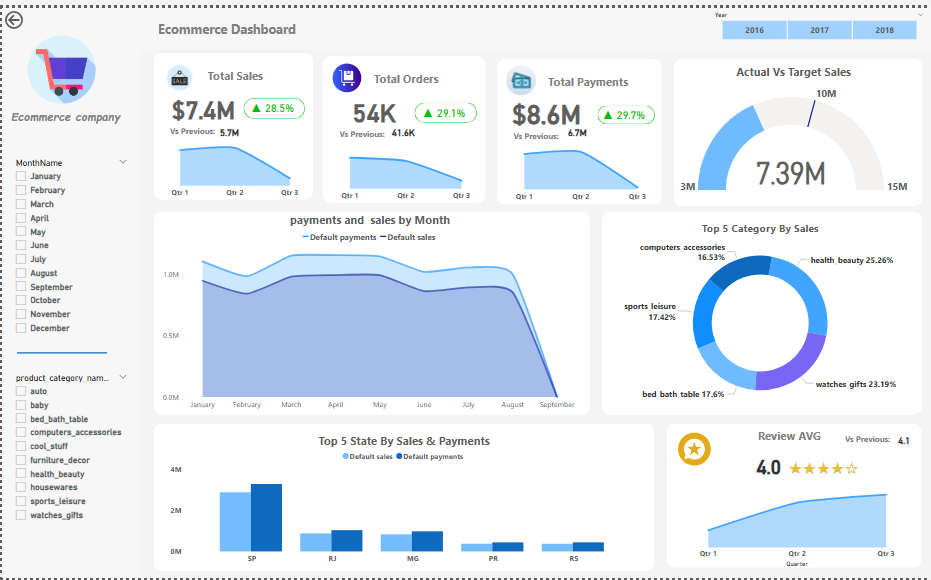

What the dashboard file says about the page in this screenshot:
{"tool":"powerbi","page":{"name":"Page 1","canvas":[1550,950],"ordinal":0},"visuals":[{"type":"shape","box":[0,0,230.9,950],"z":0},{"type":"shape","box":[253.2,75.8,265.8,244.9],"z":0,"group":"g6"},{"type":"shape","box":[533.8,79.4,270.2,244.9],"z":0,"group":"g7"},{"type":"shape","box":[824.7,84.3,274.3,242.9],"z":0,"group":"g8"},{"type":"shape","box":[1106.6,691.8,425.3,240.4],"z":0,"group":"g9"},{"type":"shape","box":[229.4,0,1320.6,70.6],"z":1000},{"type":"card","fields":{"Values":["FACTOrders.Default sales"]},"box":[255.8,125.9,161.6,82.8],"z":1000,"group":"g6"},{"type":"card","fields":{"Values":["FACTOrders.Default orders"]},"box":[536.4,129.5,164.3,82.8],"z":1000,"group":"g7"},{"type":"card","fields":{"Values":["FACTOrders.Default payments"]},"box":[804.3,132.7,204.1,78.3],"z":1000,"group":"g8"},{"type":"card","fields":{"Values":["FACTOrders.Default Review"]},"box":[1208,720.9,135.6,81.2],"z":1000,"group":"g9"},{"type":"card","fields":{"Values":["FACTOrders.Growth Indicator"]},"box":[395,150,109.3,35.1],"z":2000,"group":"g6"},{"type":"card","fields":{"Values":["FACTOrders.Growth Indicator orders"]},"box":[679.1,156.9,111.2,35.1],"z":2000,"group":"g7"},{"type":"shape","box":[253.2,340.3,727.4,337.1],"z":2000},{"type":"card","fields":{"Values":["FACTOrders.Dynamic Stars"]},"box":[1272.8,748.6,192.9,32.8],"z":2000,"group":"g9"},{"type":"group","id":"g1","title":"Group 2","box":[253.2,75.8,266.1,250],"z":3000},{"type":"stackedAreaChart","fields":{"Y":["FACTOrders.Default sales"],"Category":["DIM_DATE.FullDate.Variation.Date Hierarchy.Quarter"]},"box":[255.8,213.4,265.8,112.4],"z":3000,"group":"g6"},{"type":"stackedAreaChart","fields":{"Y":["FACTOrders.Default payments"],"Category":["DIM_DATE.FullDate.Variation.Date Hierarchy.Quarter"]},"box":[827.5,216.6,273.9,113.8],"z":3000,"group":"g8"},{"type":"stackedAreaChart","fields":{"Y":["FACTOrders.Default orders"],"Category":["DIM_DATE.FullDate.Variation.Date Hierarchy.Quarter"]},"box":[536.4,217,270.2,112.4],"z":3000,"group":"g7"},{"type":"stackedAreaChart","fields":{"Y":["FACTOrders.Default Review"],"Category":["DIM_DATE.FullDate.Variation.Date Hierarchy.Quarter"]},"box":[1111.3,772.8,424.9,164.2],"z":3000,"group":"g9"},{"type":"group","id":"g2","title":"Group 2","box":[533.8,79.4,272.9,250],"z":4000},{"type":"card","fields":{"Values":["FACTOrders.Previous orders"]},"box":[639,191.8,57.7,33.1],"z":4000,"group":"g7"},{"type":"card","fields":{"Values":["FACTOrders.Previous Sales"]},"box":[351.3,193.9,57.4,32.2],"z":4000,"group":"g6"},{"type":"card","fields":{"Values":["FACTOrders.Previous Review"]},"box":[1456.6,703.7,91.9,32.8],"z":4000,"group":"g9"},{"type":"group","id":"g3","title":"Group 2","box":[804.3,84.3,297.1,246.1],"z":5000,"group":"g5"},{"type":"textbox","box":[275.4,191.4,108.2,29.6],"z":5000,"group":"g6"},{"type":"textbox","box":[556.4,195,110,29.6],"z":5000,"group":"g7"},{"type":"textbox","box":[847.1,195.6,111.5,28.3],"z":5000,"group":"g8"},{"type":"group","id":"g4","title":"Group 2","box":[1106.6,691.8,442.6,244.3],"z":5000},{"type":"textbox","box":[1399.4,701.9,111.5,36.3],"z":5000,"group":"g9"},{"type":"image","box":[255.8,90.4,81.5,52],"z":6000,"group":"g6"},{"type":"image","box":[1119.1,702.9,67.6,64.7],"z":6000},{"type":"textbox","box":[337.3,96.3,128.2,39],"z":7000,"group":"g6"},{"type":"textbox","box":[613.2,99.2,145.3,36.7],"z":7000,"group":"g7"},{"type":"textbox","box":[904.8,104.2,176.1,37.4],"z":7000,"group":"g8"},{"type":"areaChart","title":"payments and  sales by Month","fields":{"Y":["FACTOrders.Default payments","FACTOrders.Default sales"],"Category":["DIM_DATE.MonthName"]},"box":[263.6,340,701.8,338.2],"z":7000},{"type":"textbox","box":[1254.1,695,159.7,44.9],"z":7000,"group":"g9"},{"type":"textbox","box":[10.3,163.2,210.3,38.2],"z":8000},{"type":"textbox","box":[255.9,16.2,269.1,54.4],"z":9000},{"type":"actionButton","box":[0,0,100,40],"z":10000},{"type":"slicer","fields":{"Values":["DIM_DATE.Year"]},"box":[1175,0,373.5,58.8],"z":11000},{"type":"shape","box":[1000,340.3,533.9,337.1],"z":12000},{"type":"donutChart","title":"Top 5 Category By Sales","fields":{"Category":["DMCategories.product_category_name_english"],"Y":["FACTOrders.Default sales"]},"box":[1006.5,351.6,511.3,325.8],"z":13000},{"type":"group","id":"g5","title":"Group 3","box":[804.3,84.3,297.1,246.1],"z":14000},{"type":"card","fields":{"Values":["FACTOrders.Growth Indicator Payments"]},"box":[980.9,163.5,105.6,28.2],"z":14000,"group":"g5"},{"type":"card","fields":{"Values":["FACTOrders.Previous Payments"]},"box":[932.8,186.9,52.5,41],"z":15000},{"type":"group","id":"g6","title":"Group 1","box":[253.2,75.8,268.4,250],"z":15002,"group":"g1"},{"type":"group","id":"g7","title":"Group 1","box":[533.8,79.4,272.9,250],"z":15002,"group":"g2"},{"type":"group","id":"g8","title":"Group 1","box":[804.3,84.3,297.1,246.1],"z":15002,"group":"g3"},{"type":"group","id":"g9","title":"Group 1","box":[1106.6,691.8,441.9,245.2],"z":15002,"group":"g4"},{"type":"shape","box":[403.2,150,102.5,35.1],"z":15502,"group":"g1"},{"type":"shape","box":[686,156.9,104.2,33.9],"z":15502,"group":"g7"},{"type":"shape","box":[992,160.9,95.8,31.3],"z":15502,"group":"g8"},{"type":"shape","box":[1119.4,83.9,414.5,245.2],"z":16000},{"type":"gauge","title":"Actual Vs Target Sales","fields":{"Y":["FACTOrders.Default sales"],"MaxValue":["FACTOrders.Max value"],"MinValue":["FACTOrders.Min value"],"TargetValue":["FACTOrders.Target"]},"box":[1119.4,91.9,398.4,225.8],"z":17000},{"type":"shape","box":[252.5,693.4,834.4,245.9],"z":18000},{"type":"clusteredColumnChart","title":"Top 5 State By Sales & Payments","fields":{"Y":["FACTOrders.Default sales","FACTOrders.Default payments"],"Category":["DMCustomers.customer_state"]},"box":[275.4,706.6,790.2,227.9],"z":19000},{"type":"image","box":[538.2,82.4,75,67.6],"z":20000},{"type":"image","box":[827.9,89.7,75,60.3],"z":21000},{"type":"image","box":[38.2,36.8,123.5,130.9],"z":22000},{"type":"slicer","fields":{"Values":["DIM_DATE.MonthName"]},"box":[10.3,245.6,210.3,305.9],"z":23000},{"type":"shape","box":[25,492.6,150,164.7],"z":24000},{"type":"slicer","fields":{"Values":["DMCategories.product_category_name_english"]},"box":[10.3,601.5,210.3,267.6],"z":25000}]}

Visuals, with their boxes in screenshot pixels (x1, y1, x2, y2), scaled from the page's 1550x950 canvas onto the 931x580 screenshot:
shape: x1=0 y1=0 x2=139 y2=579
shape: x1=152 y1=46 x2=312 y2=196
shape: x1=321 y1=48 x2=483 y2=198
shape: x1=495 y1=51 x2=660 y2=200
shape: x1=665 y1=422 x2=920 y2=569
shape: x1=138 y1=0 x2=930 y2=43
card - FACTOrders.Default sales: x1=154 y1=77 x2=251 y2=127
card - FACTOrders.Default orders: x1=322 y1=79 x2=421 y2=130
card - FACTOrders.Default payments: x1=483 y1=81 x2=606 y2=129
card - FACTOrders.Default Review: x1=726 y1=440 x2=807 y2=490
card - FACTOrders.Growth Indicator: x1=237 y1=92 x2=303 y2=113
card - FACTOrders.Growth Indicator orders: x1=408 y1=96 x2=475 y2=117
shape: x1=152 y1=208 x2=589 y2=414
card - FACTOrders.Dynamic Stars: x1=765 y1=457 x2=880 y2=477
"Group 2" group: x1=152 y1=46 x2=312 y2=199
stackedAreaChart - FACTOrders.Default sales x DIM_DATE.FullDate.Variation.Date Hierarchy.Quarter: x1=154 y1=130 x2=313 y2=199
stackedAreaChart - FACTOrders.Default payments x DIM_DATE.FullDate.Variation.Date Hierarchy.Quarter: x1=497 y1=132 x2=662 y2=202
stackedAreaChart - FACTOrders.Default orders x DIM_DATE.FullDate.Variation.Date Hierarchy.Quarter: x1=322 y1=132 x2=484 y2=201
stackedAreaChart - FACTOrders.Default Review x DIM_DATE.FullDate.Variation.Date Hierarchy.Quarter: x1=667 y1=472 x2=923 y2=572
"Group 2" group: x1=321 y1=48 x2=485 y2=201
card - FACTOrders.Previous orders: x1=384 y1=117 x2=418 y2=137
card - FACTOrders.Previous Sales: x1=211 y1=118 x2=245 y2=138
card - FACTOrders.Previous Review: x1=875 y1=430 x2=930 y2=450
"Group 2" group: x1=483 y1=51 x2=662 y2=202
textbox: x1=165 y1=117 x2=230 y2=135
textbox: x1=334 y1=119 x2=400 y2=137
textbox: x1=509 y1=119 x2=576 y2=137
"Group 2" group: x1=665 y1=422 x2=930 y2=572
textbox: x1=841 y1=429 x2=908 y2=451
image: x1=154 y1=55 x2=203 y2=87
image: x1=672 y1=429 x2=713 y2=469
textbox: x1=203 y1=59 x2=280 y2=83
textbox: x1=368 y1=61 x2=456 y2=83
textbox: x1=543 y1=64 x2=649 y2=86
"payments and  sales by Month" areaChart: x1=158 y1=208 x2=580 y2=414
textbox: x1=753 y1=424 x2=849 y2=452
textbox: x1=6 y1=100 x2=133 y2=123
textbox: x1=154 y1=10 x2=315 y2=43
actionButton: x1=0 y1=0 x2=60 y2=24
slicer - DIM_DATE.Year: x1=706 y1=0 x2=930 y2=36
shape: x1=601 y1=208 x2=921 y2=414
"Top 5 Category By Sales" donutChart: x1=605 y1=215 x2=912 y2=414
"Group 3" group: x1=483 y1=51 x2=662 y2=202
card - FACTOrders.Growth Indicator Payments: x1=589 y1=100 x2=653 y2=117
card - FACTOrders.Previous Payments: x1=560 y1=114 x2=592 y2=139
"Group 1" group: x1=152 y1=46 x2=313 y2=199
"Group 1" group: x1=321 y1=48 x2=485 y2=201
"Group 1" group: x1=483 y1=51 x2=662 y2=202
"Group 1" group: x1=665 y1=422 x2=930 y2=572
shape: x1=242 y1=92 x2=304 y2=113
shape: x1=412 y1=96 x2=475 y2=116
shape: x1=596 y1=98 x2=653 y2=117
shape: x1=672 y1=51 x2=921 y2=201
"Actual Vs Target Sales" gauge: x1=672 y1=56 x2=912 y2=194
shape: x1=152 y1=423 x2=653 y2=573
"Top 5 State By Sales & Payments" clusteredColumnChart: x1=165 y1=431 x2=640 y2=571
image: x1=323 y1=50 x2=368 y2=92
image: x1=497 y1=55 x2=542 y2=92
image: x1=23 y1=22 x2=97 y2=102
slicer - DIM_DATE.MonthName: x1=6 y1=150 x2=133 y2=337
shape: x1=15 y1=301 x2=105 y2=401
slicer - DMCategories.product_category_name_english: x1=6 y1=367 x2=133 y2=531
